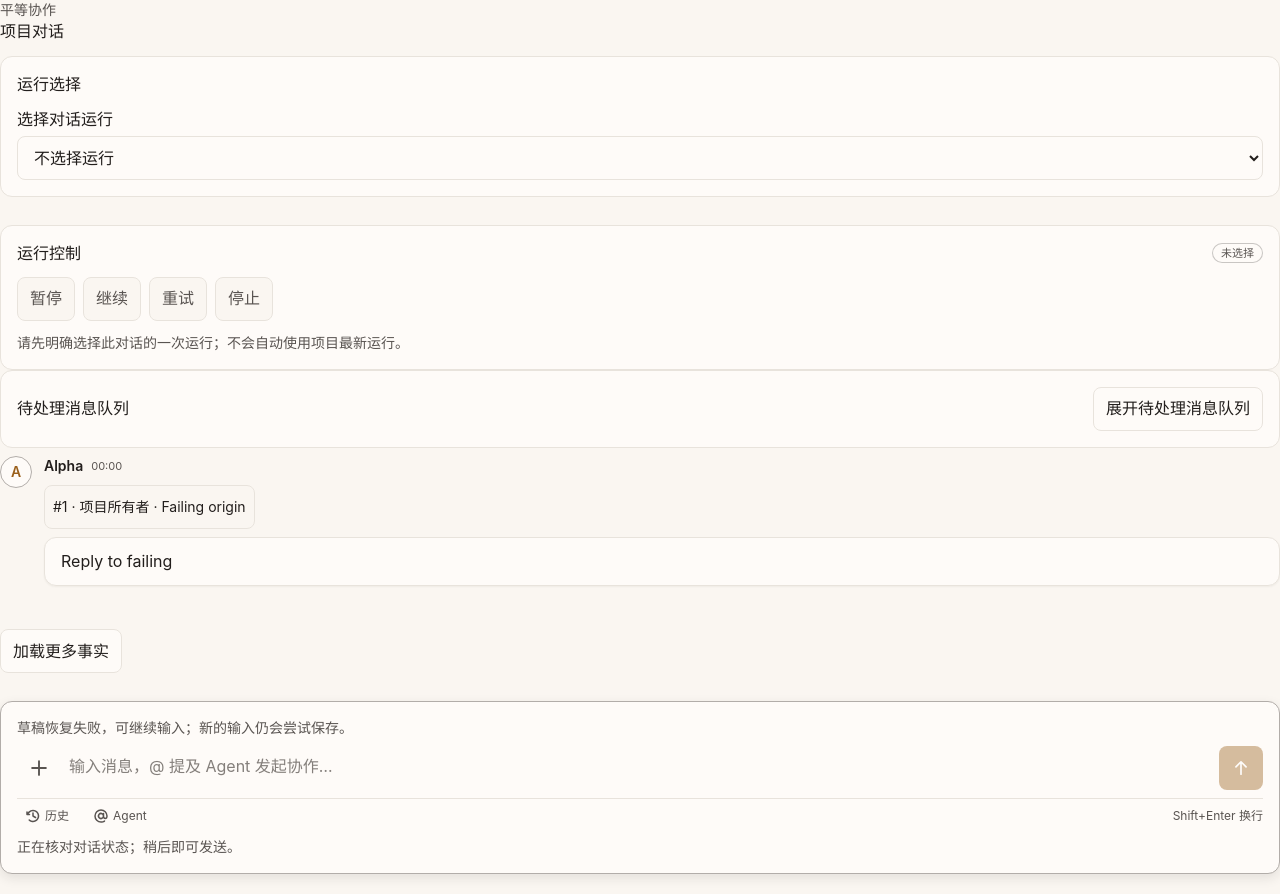
reply reference chip and source jump › surfaces a perceivable error and re-enables the chip when the source page load fails
The width and height of the screenshot is (1280, 894).
Click the button with aria-label "跳转到来源消息：#1 · 项目所有者 · Failing origin" at (149, 507), box [44,485,255,529]
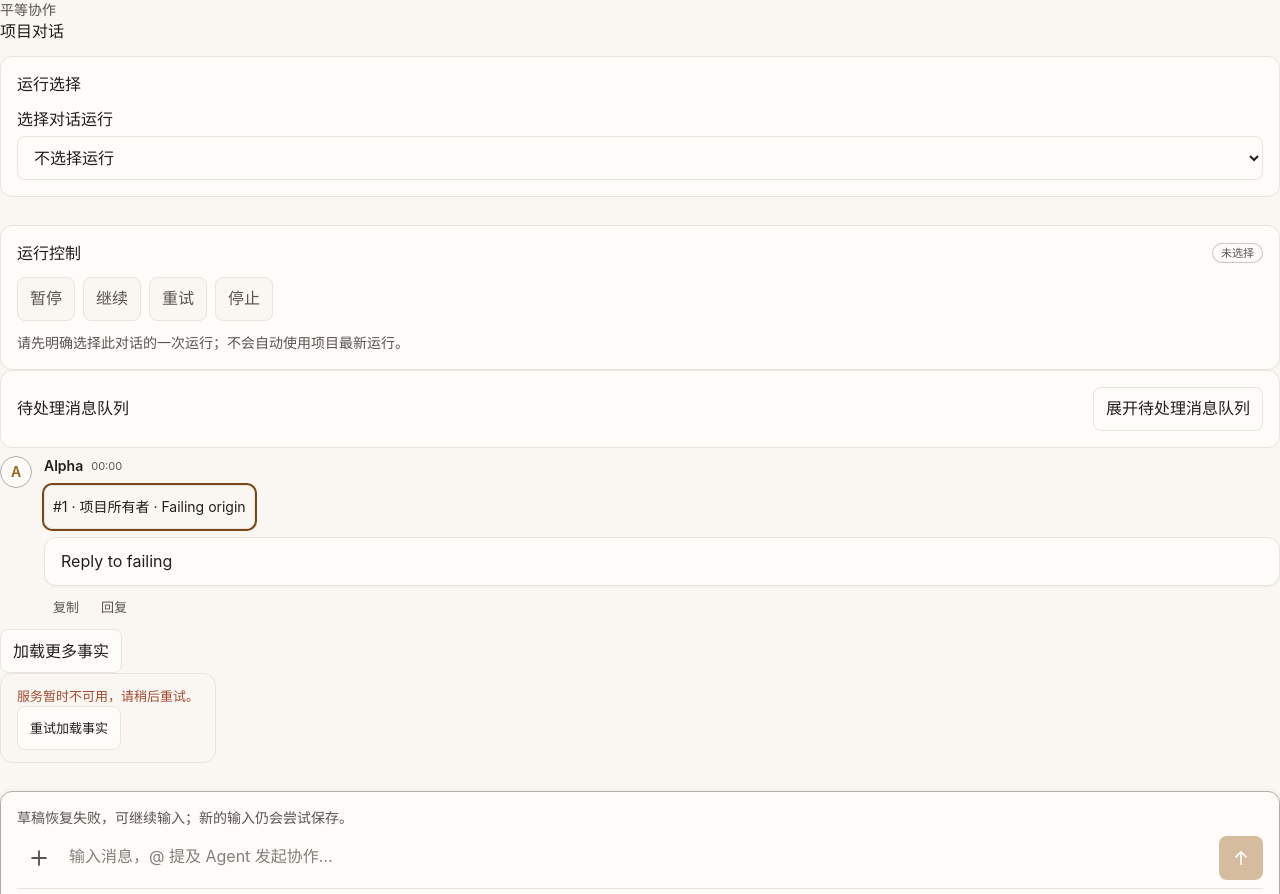
Now the message shows "服务暂时不可用", box [17,688,199,704]
